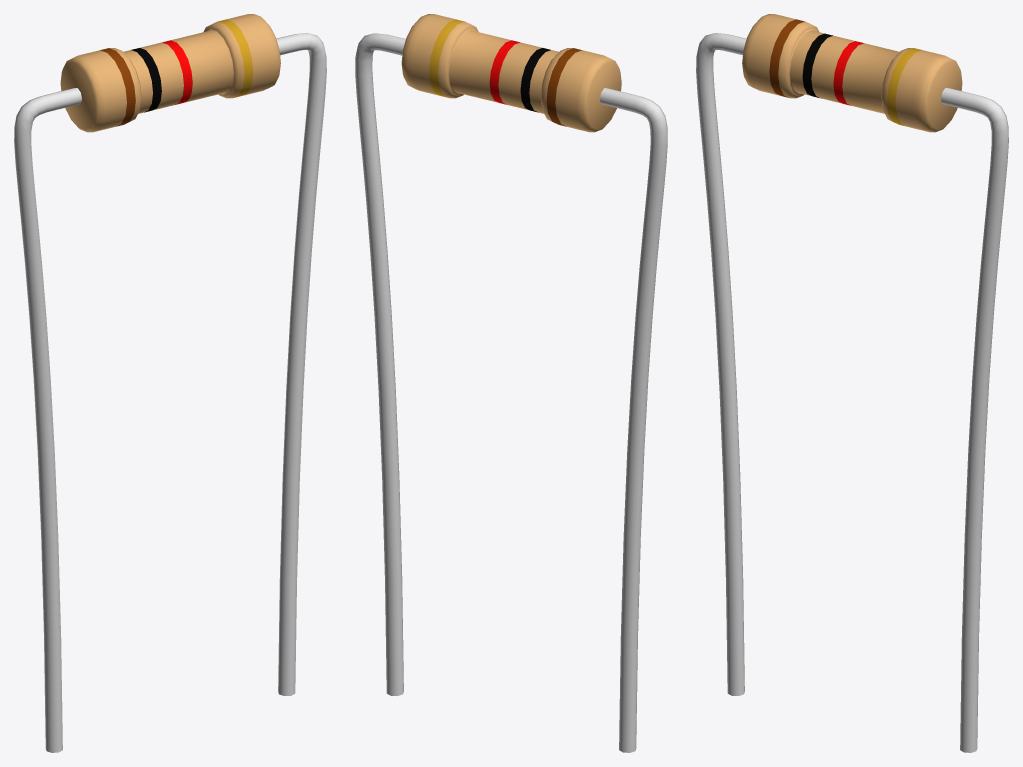
Rendered from Resistor.fbx.
3 renders of one model, left to right at view 1: azimuth 30°, elevation 25°; view 2: azimuth 150°, elevation 25°; view 3: azimuth 330°, elevation 25°, orthographic.
Visible parts, largest first — view 1: Legs.002, Resistor-Axial Blue; view 2: Legs.002, Resistor-Axial Blue; view 3: Legs.002, Resistor-Axial Blue.
Part boxes in pixels (bbox=[...]): Legs.002: bbox=[14, 33, 326, 752]; Resistor-Axial Blue: bbox=[60, 14, 280, 132]; Legs.002: bbox=[355, 33, 667, 752]; Resistor-Axial Blue: bbox=[401, 14, 621, 132]; Legs.002: bbox=[696, 33, 1008, 752]; Resistor-Axial Blue: bbox=[742, 14, 962, 132].
Size of the model in its own units: 1 by 2.11 by 0.22.
